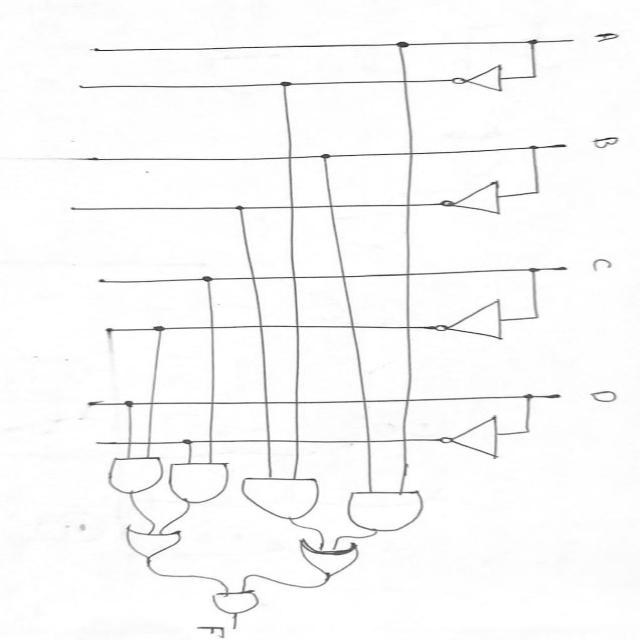AND: (345, 486, 432, 534), (239, 474, 322, 521), (166, 458, 236, 508), (101, 456, 166, 499), (201, 589, 280, 622)
NOT: (425, 289, 533, 351), (420, 178, 533, 231), (425, 409, 517, 467), (443, 58, 520, 100)
OR: (108, 519, 207, 570), (294, 536, 379, 581)
